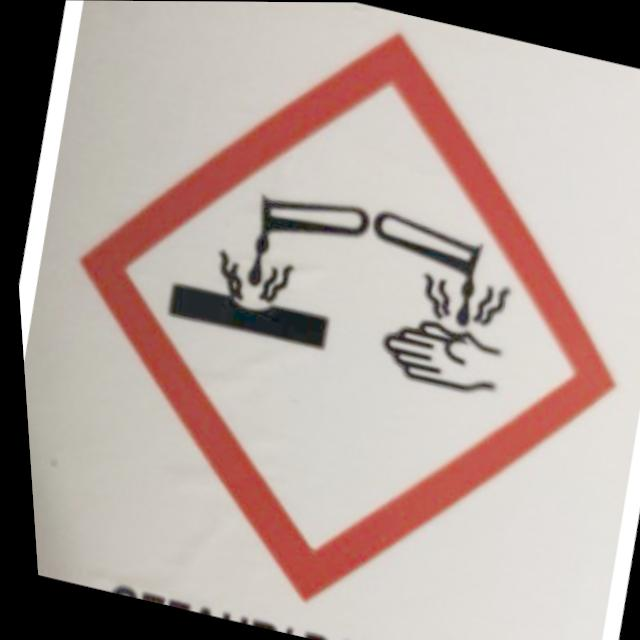corrosive: (151, 163, 525, 398)
